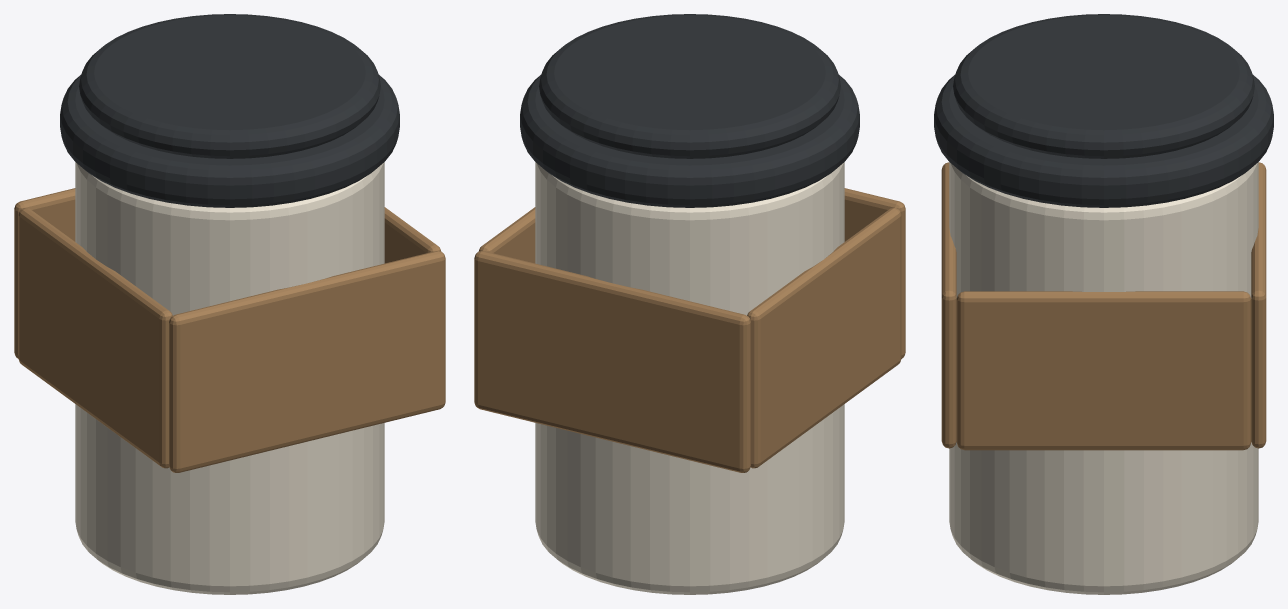
The model's file is cafe-takeaway-cup-01.glb.
The picture shows the model from 3 angles, left to right: view 1: azimuth 30°, elevation 25°; view 2: azimuth 150°, elevation 25°; view 3: azimuth 270°, elevation 25°; orthographic projection.
Visible parts, largest first — view 1: cafe-takeaway-cup-01; view 2: cafe-takeaway-cup-01; view 3: cafe-takeaway-cup-01.
Part boxes in pixels (x1,y1,x2,y2): cafe-takeaway-cup-01: [14, 14, 445, 594]; cafe-takeaway-cup-01: [474, 14, 905, 594]; cafe-takeaway-cup-01: [934, 14, 1273, 594].
Size of the model in its own units: 0.09 by 0.135 by 0.09.
